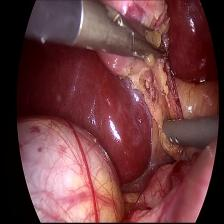Grasper: (94, 1, 170, 69)
Irrigator: (160, 111, 196, 153)
